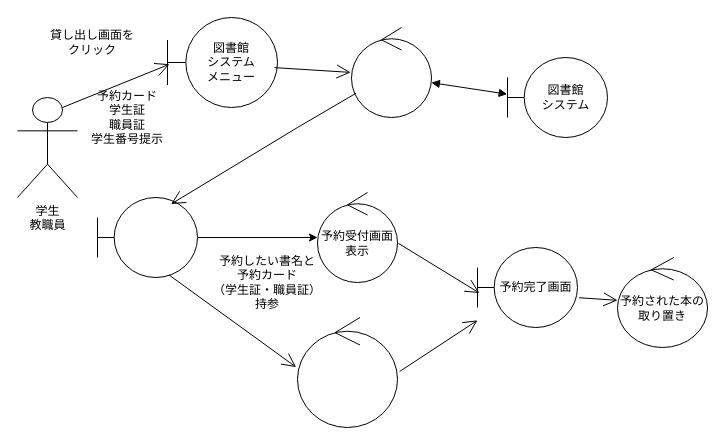
Some shapes in this 725 by 445 pixel diagram are drawn without their labels. The centre of each missing label's shape, as x and y in pixels:
"予約受付画面" belongs at point (147, 237).
"利用者情報 表示" belongs at point (347, 372).
"貸し出し画面表示" belongs at point (391, 72).
